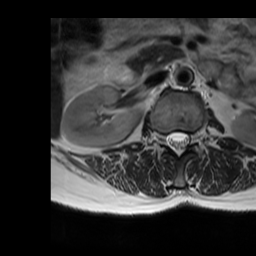CCS_normal: (172, 124, 182, 162)
LFS_normal: (189, 129, 197, 152)
LLS_normal: (182, 128, 190, 153)
RFS_normal: (157, 128, 166, 151)
RLS_normal: (165, 128, 173, 152)
